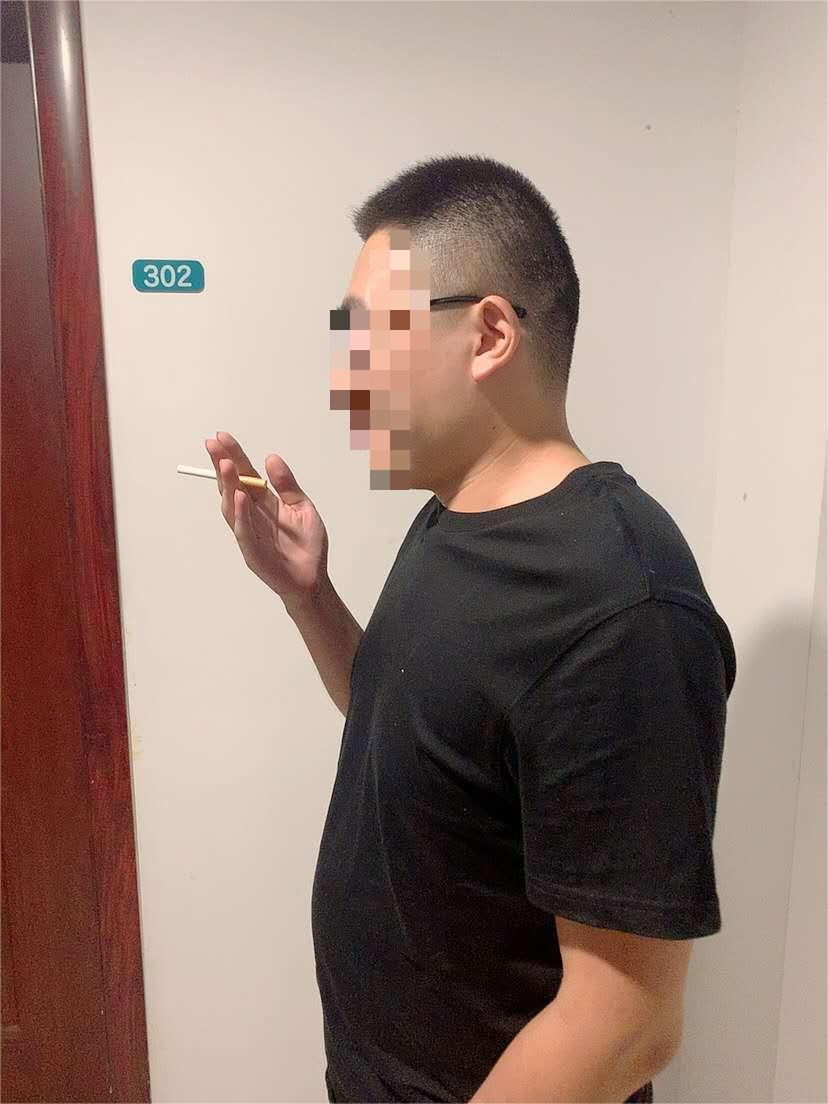smoke: (174, 462, 267, 488)
